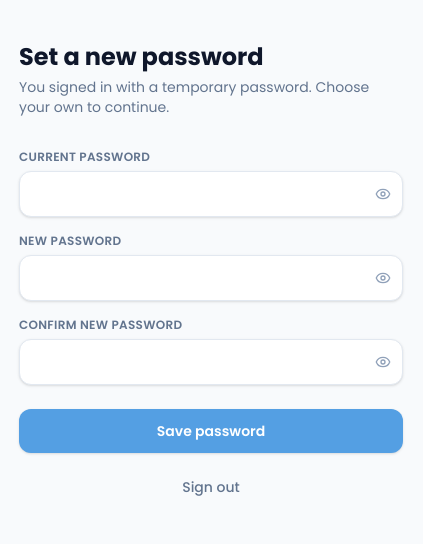
Scenario: ChangePasswordForm › shows a mismatch error
Type "temporary-pass" into the password field labelled "Current password" at (211, 194), box [19,171,403,217]
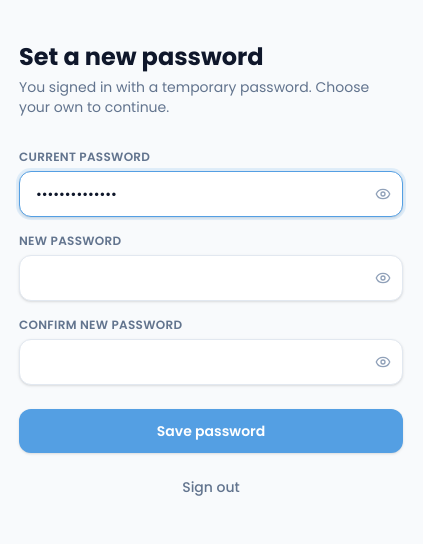
Type "a-long-password-1" into the password field labelled "New password" at (211, 278), box [19,255,403,301]
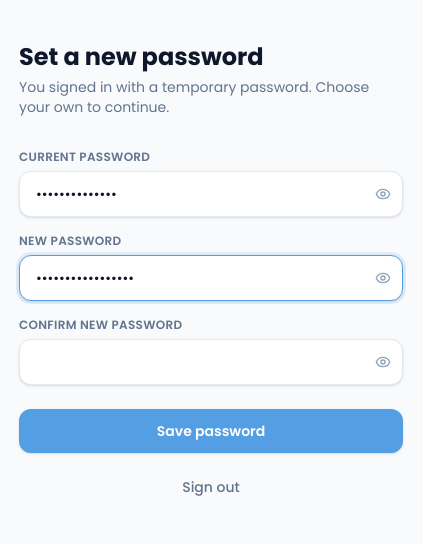
Type "a-long-password-2" into the password field labelled "Confirm new password" at (211, 362), box [19,339,403,385]
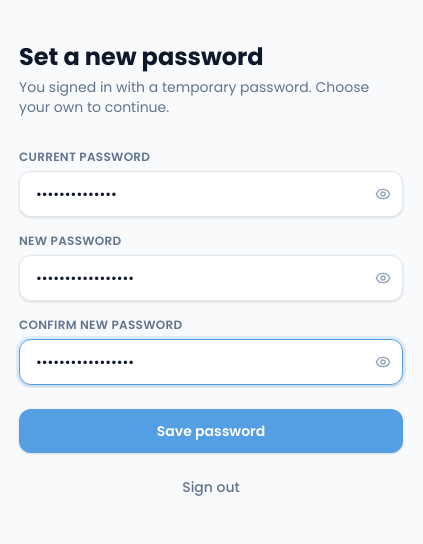
Click the button "Save password" at (211, 431), box [19,409,403,453]
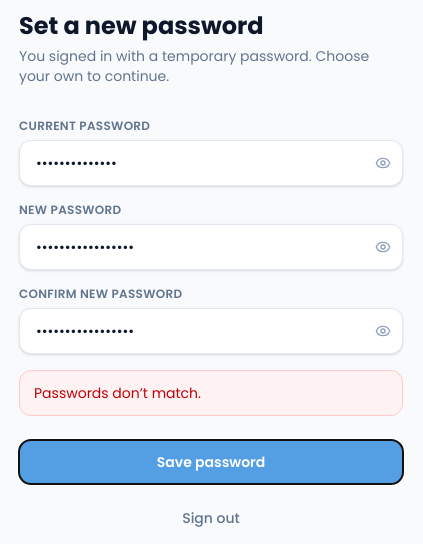
Expected: the text "Passwords don’t match." is shown, [19,370,403,416]
